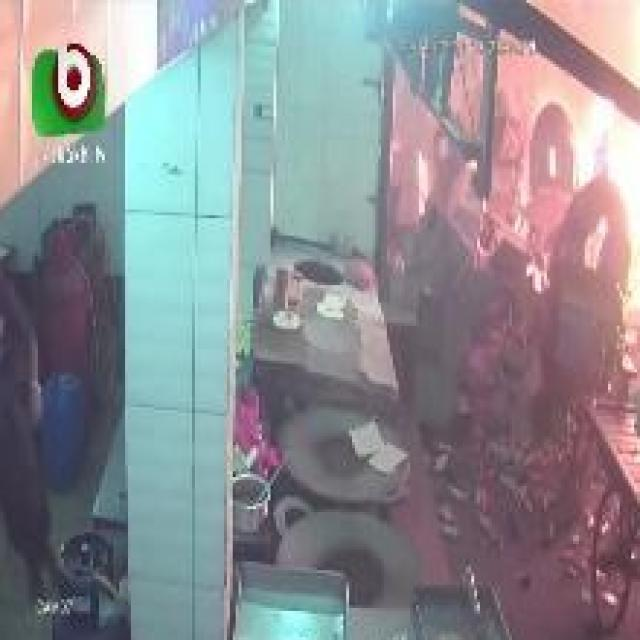smoke: (561, 40, 640, 302)
